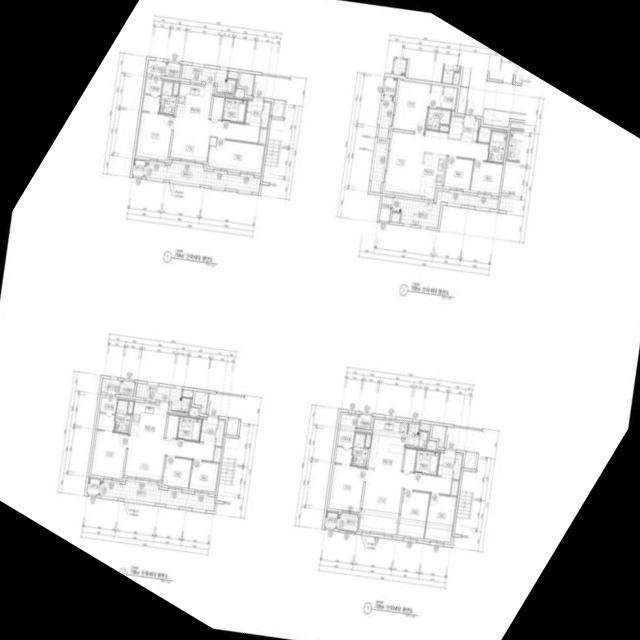background: (0, 0, 640, 640)
space_balconi: (392, 190, 498, 228), (99, 480, 215, 511), (144, 162, 260, 192), (370, 95, 394, 192), (181, 64, 236, 94), (135, 383, 190, 412), (406, 423, 428, 449), (336, 513, 359, 531), (146, 59, 166, 76), (101, 378, 121, 394)
space_bedroom: (393, 80, 431, 132), (208, 138, 264, 173), (328, 463, 365, 512), (136, 111, 173, 160), (91, 430, 128, 478), (424, 493, 456, 542), (398, 490, 429, 538), (470, 160, 503, 194), (444, 156, 473, 189), (189, 460, 219, 491), (163, 456, 192, 488)
space_dressroom: (335, 414, 357, 464), (97, 395, 117, 431), (142, 76, 162, 112), (429, 84, 457, 109)
space_front: (245, 97, 270, 127), (437, 449, 456, 478), (199, 416, 218, 445), (461, 115, 479, 142)
space_kitchen: (368, 418, 408, 471), (130, 401, 168, 438), (417, 151, 446, 197), (176, 83, 213, 119)
space_living_room: (384, 130, 489, 195), (359, 468, 452, 534), (124, 433, 215, 480), (170, 115, 260, 161)
space_other: (448, 116, 463, 139), (431, 424, 446, 447), (239, 72, 254, 95), (194, 391, 209, 414), (211, 96, 225, 120), (165, 414, 179, 438), (379, 196, 392, 221), (403, 448, 417, 471), (215, 420, 225, 446), (165, 62, 180, 78), (226, 417, 239, 435), (271, 99, 284, 117), (357, 414, 372, 429), (120, 381, 135, 396), (453, 454, 462, 479), (464, 451, 476, 469), (478, 127, 491, 143), (213, 447, 221, 462), (259, 128, 266, 143), (451, 480, 458, 495), (227, 71, 239, 79), (234, 89, 244, 98), (391, 212, 400, 222), (182, 389, 193, 397), (127, 401, 134, 413), (189, 408, 198, 417), (427, 441, 436, 450), (173, 82, 179, 95), (365, 434, 371, 447), (420, 424, 430, 431), (440, 125, 449, 131)
space_outdoor_room: (383, 76, 397, 95), (324, 511, 338, 528), (86, 478, 100, 494), (132, 159, 145, 176)
space_toilet: (487, 130, 507, 162), (222, 97, 247, 122), (415, 449, 439, 474), (177, 416, 201, 441), (114, 399, 131, 433), (426, 107, 451, 130), (351, 433, 368, 466), (159, 81, 176, 114)
